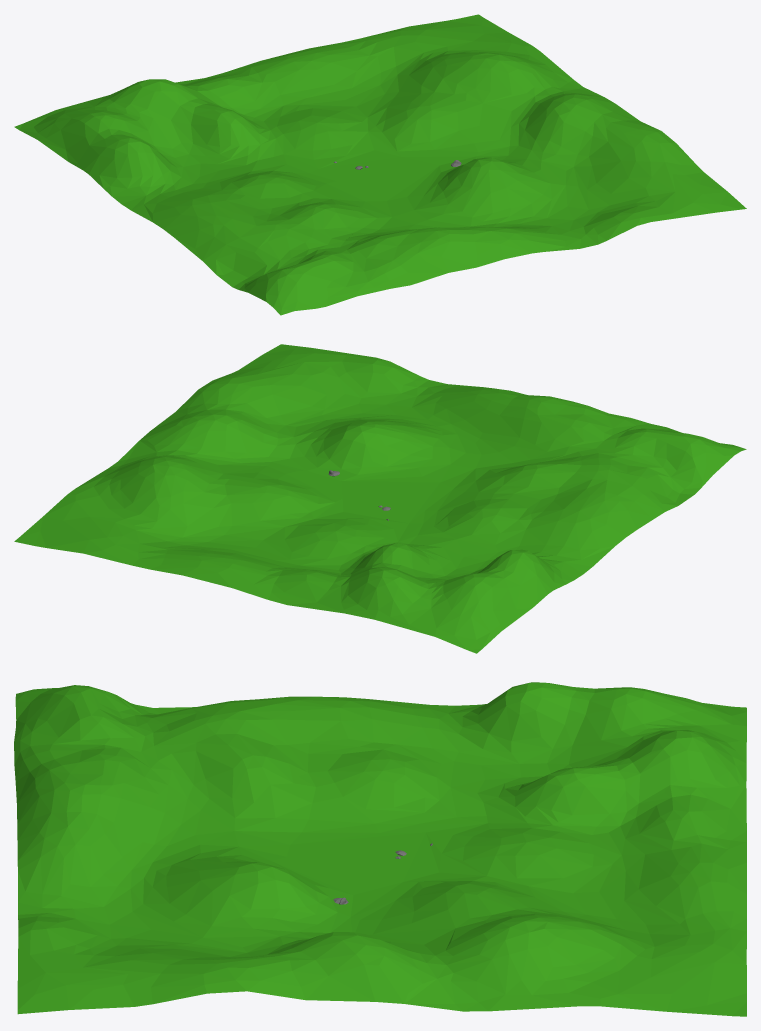
Rendered from Env_Outdoor.fbx.
3 views of the same model, one above another, from view 1: azimuth 30°, elevation 25°; view 2: azimuth 150°, elevation 25°; view 3: azimuth 270°, elevation 25° (orthographic). The views are drawn at different scales.
Visible parts, largest first — view 1: Grass; view 2: Grass; view 3: Grass.
Boxes of the visible parts, x1,y1,x2,y2 form: Grass: (14,14,746,315); Grass: (14,344,746,653); Grass: (14,682,746,1016).
Size of the model in its own units: 20150 by 1670 by 20108.
